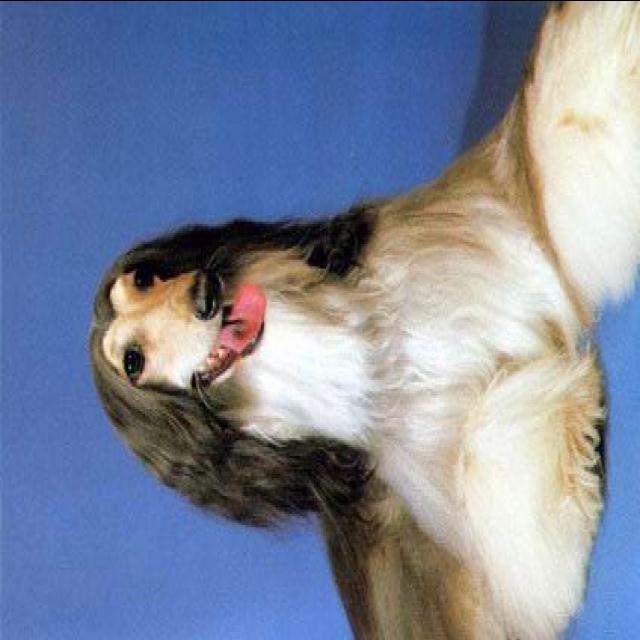afghan_hound: (84, 7, 635, 640)
